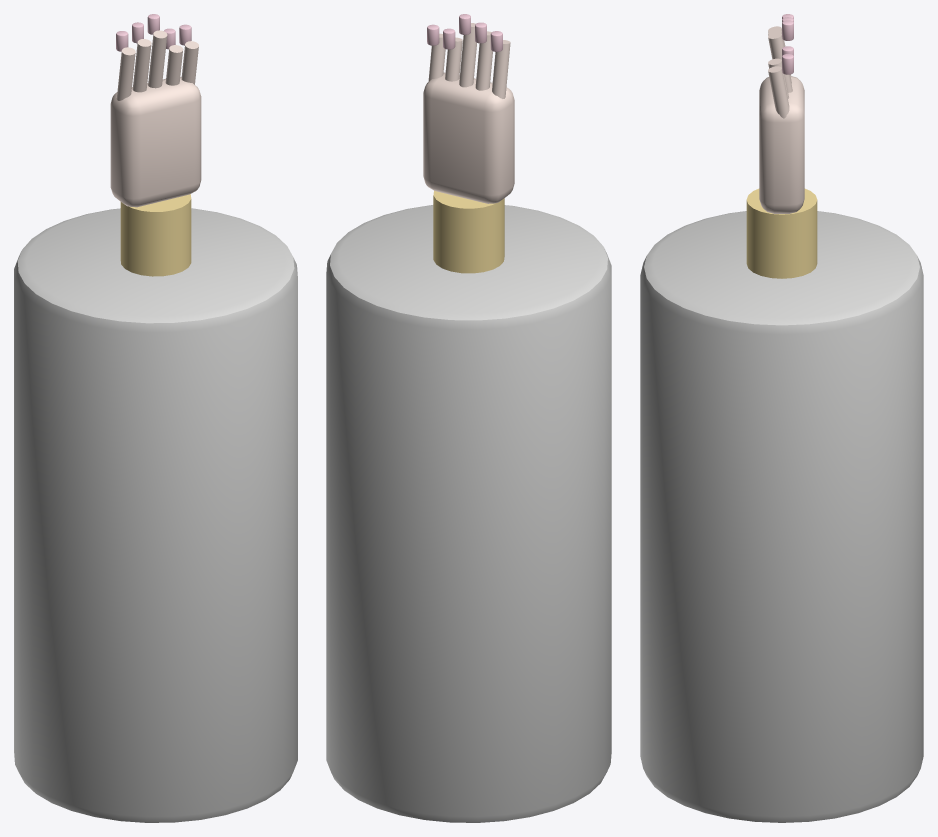
The model's file is ar-hand-mannequin-pedestal.glb.
3 views of the same model, side by side, from view 1: azimuth 30°, elevation 25°; view 2: azimuth 150°, elevation 25°; view 3: azimuth 270°, elevation 25° (orthographic).
Visible parts, largest first — view 1: mannequin_FlutedPedestal, mannequin_Palm, mannequin_BrassSwivel, mannequin_Finger_2, mannequin_Finger_1, mannequin_Finger_0, mannequin_Finger_4, mannequin_Finger_3; view 2: mannequin_FlutedPedestal, mannequin_Palm, mannequin_BrassSwivel, mannequin_Finger_2, mannequin_Finger_0, mannequin_Finger_1, mannequin_Finger_3, mannequin_Finger_4; view 3: mannequin_FlutedPedestal, mannequin_Palm, mannequin_BrassSwivel, mannequin_Finger_4.
Part boxes in pixels (box(x1,y1,x2,y2)): mannequin_FlutedPedestal: box(14, 208, 297, 822); mannequin_Palm: box(110, 77, 201, 207); mannequin_BrassSwivel: box(120, 194, 191, 276); mannequin_Finger_2: box(148, 30, 167, 88); mannequin_Finger_1: box(132, 39, 151, 92); mannequin_Finger_0: box(116, 47, 135, 100); mannequin_Finger_4: box(181, 41, 198, 84); mannequin_Finger_3: box(165, 45, 183, 85); mannequin_FlutedPedestal: box(326, 205, 611, 822); mannequin_Palm: box(423, 72, 514, 203); mannequin_BrassSwivel: box(433, 190, 504, 273); mannequin_Finger_2: box(459, 23, 476, 87); mannequin_Finger_0: box(492, 40, 510, 98); mannequin_Finger_1: box(475, 31, 492, 90); mannequin_Finger_3: box(445, 37, 462, 81); mannequin_Finger_4: box(428, 33, 445, 81); mannequin_FlutedPedestal: box(640, 211, 923, 822); mannequin_Palm: box(759, 76, 804, 213); mannequin_BrassSwivel: box(746, 188, 817, 278); mannequin_Finger_4: box(768, 66, 789, 118).
Size of the model in its own units: 0.28 by 0.814 by 0.28.
